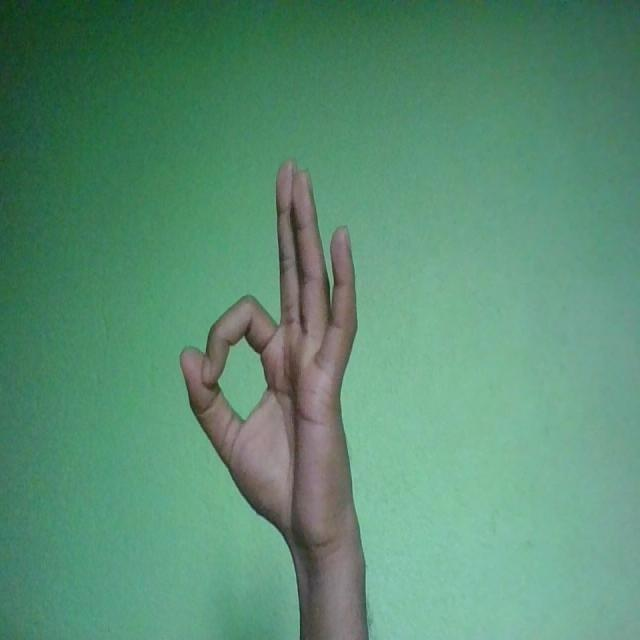Rock On: (181, 154, 358, 559)
